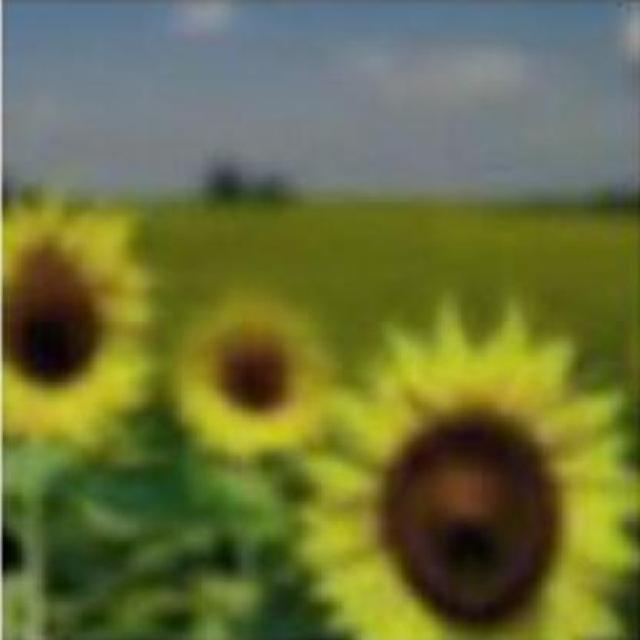sunflower: (291, 321, 640, 640)
